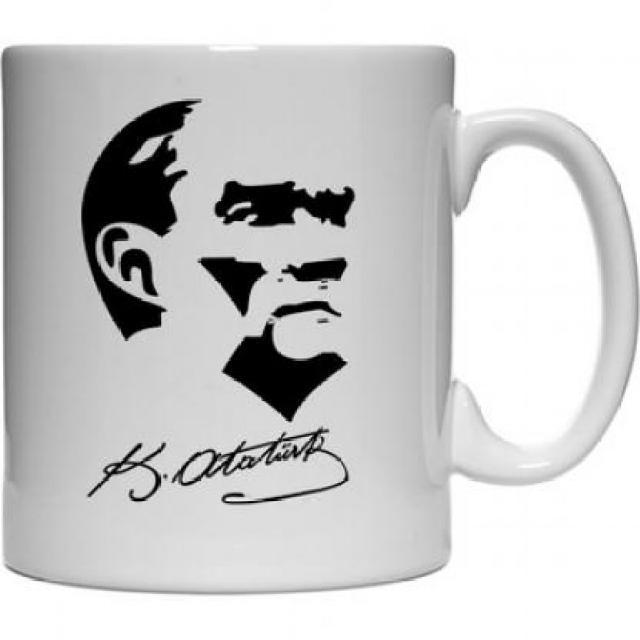taza: (0, 44, 640, 598)
